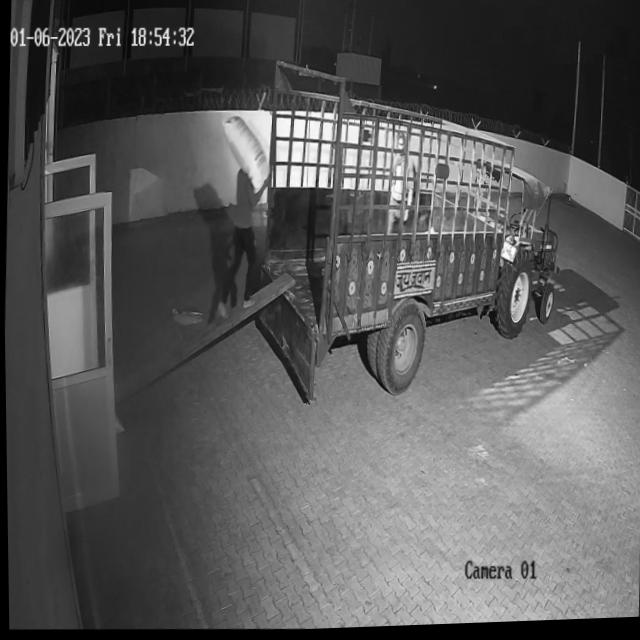sack: (218, 114, 270, 195)
